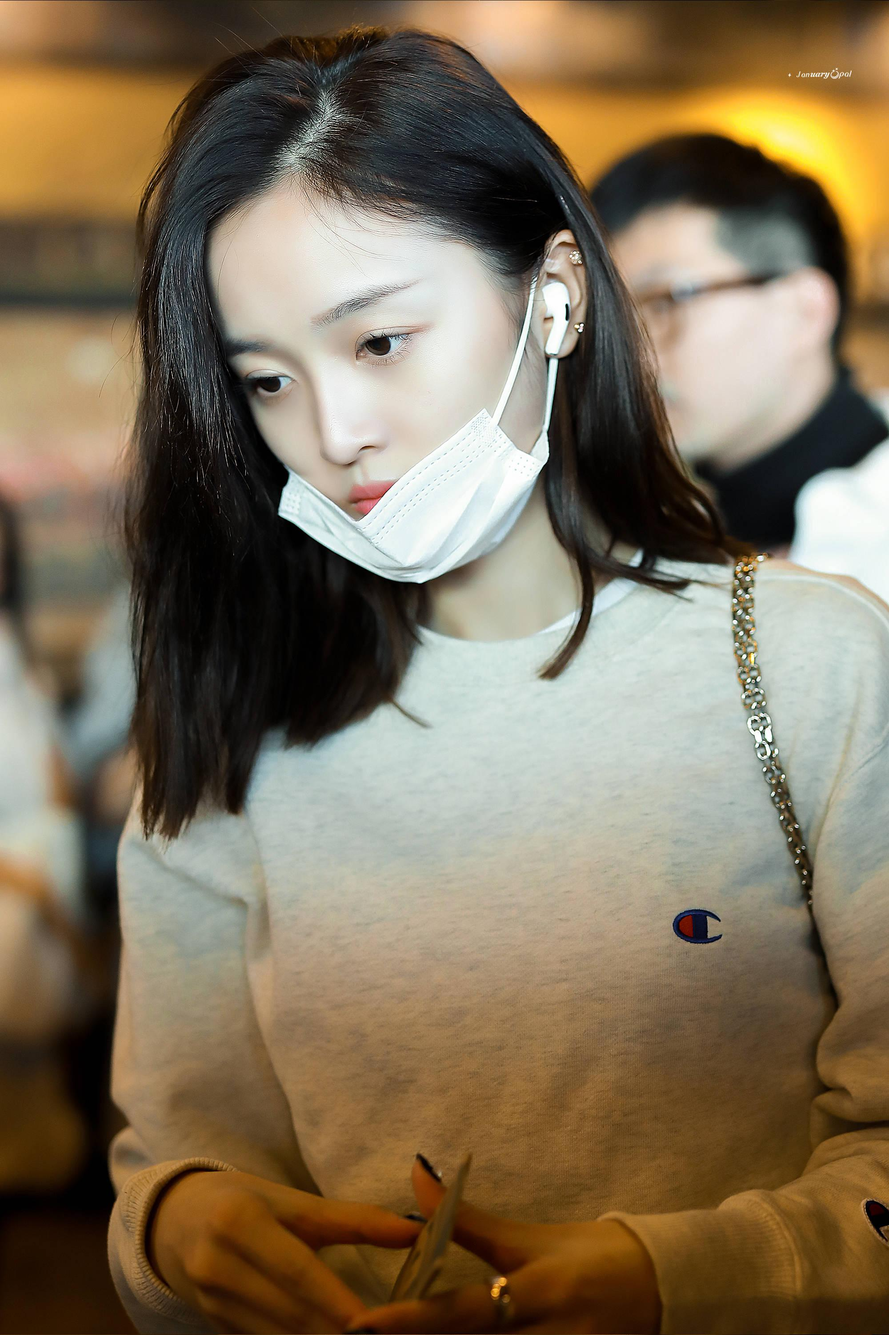NONE: (557, 253, 732, 466)
WRONG: (211, 238, 525, 574)
